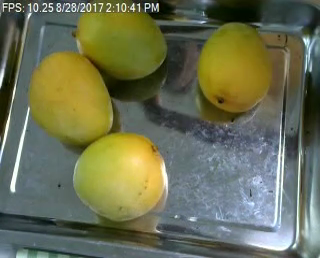Mango: (72, 132, 167, 221), (29, 53, 111, 145), (73, 4, 166, 77), (197, 23, 273, 111)
